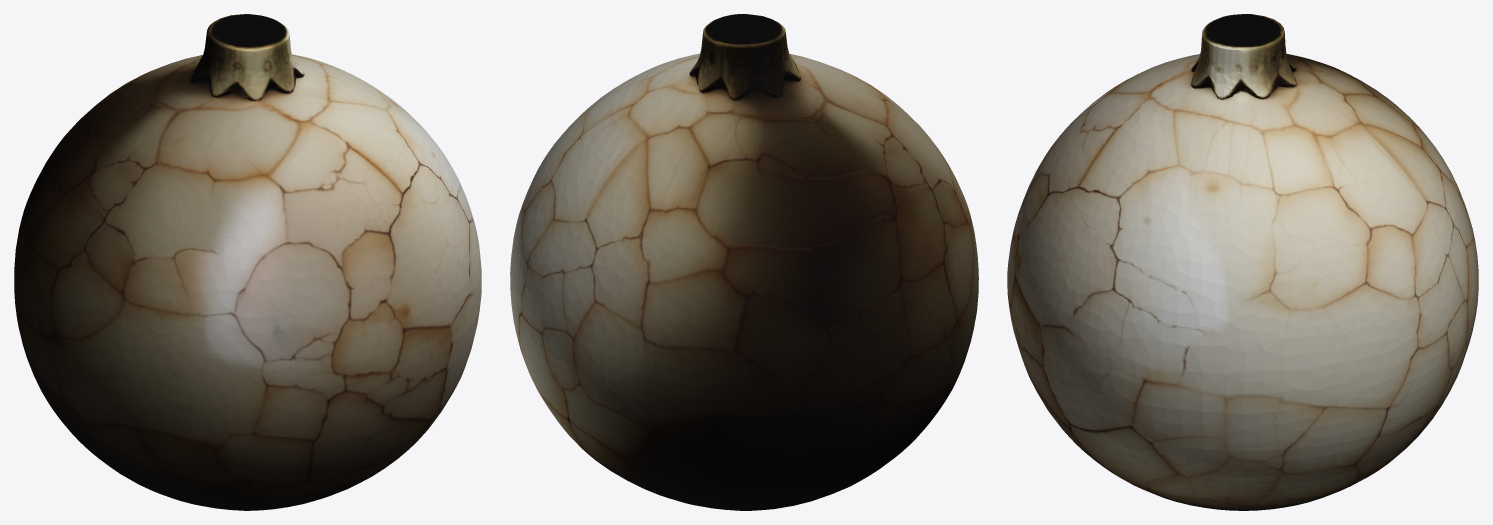
File: porcelain-ornament-used-rustic-worn.jpeg.glb
3 renders of one model, left to right at view 1: azimuth 30°, elevation 25°; view 2: azimuth 150°, elevation 25°; view 3: azimuth 270°, elevation 25°, orthographic.
Parts seen in each view (by area): view 1: world; view 2: world; view 3: world.
Part boxes in pixels (x1,y1,x2,y2): world: (14,14,481,510); world: (510,14,978,510); world: (1007,14,1478,510).
Size of the model in its own units: 0.923 by 0.9943 by 0.923.
Materials: 1 (1 with a texture image).
